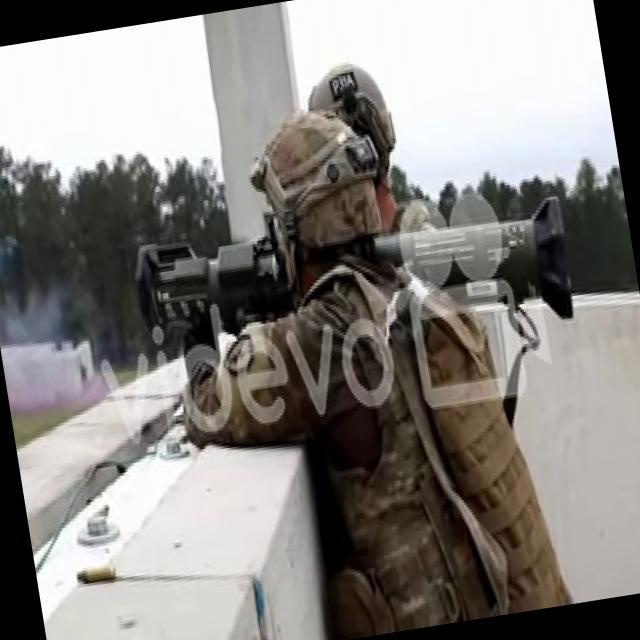rocket: (136, 174, 582, 392)
